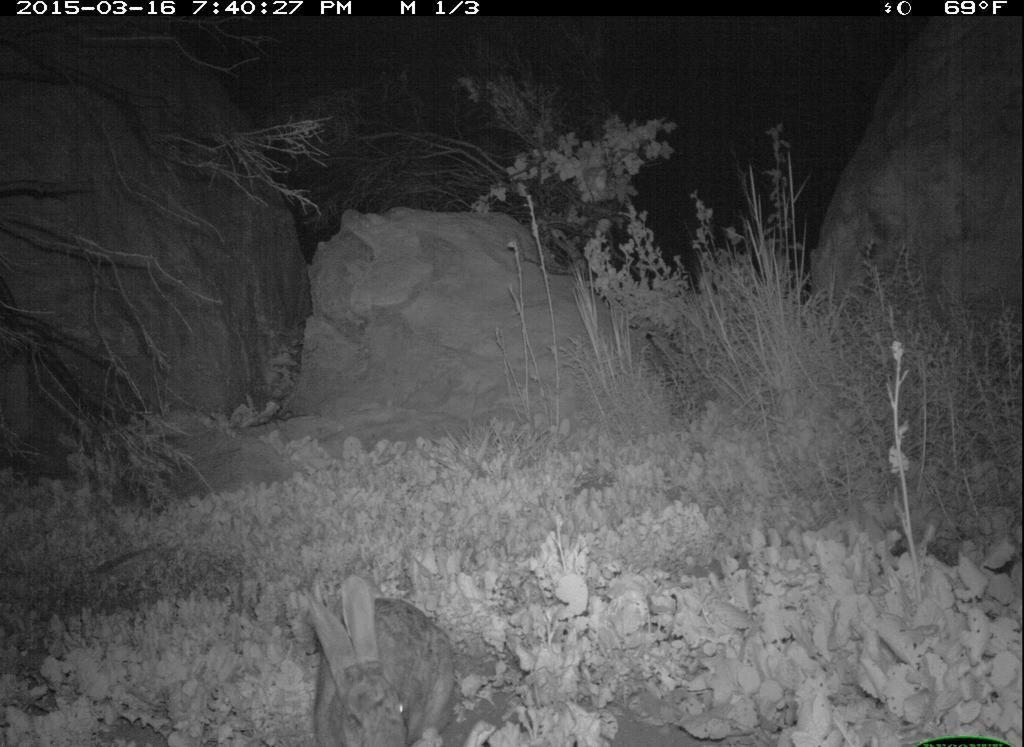rabbit: (286, 557, 468, 739)
